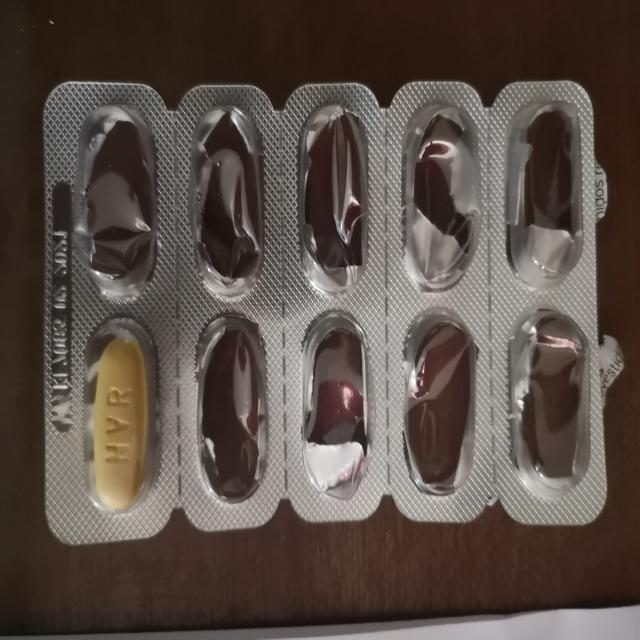Empty: (502, 301, 598, 501), (501, 94, 592, 294), (76, 104, 160, 306), (395, 101, 480, 296), (395, 304, 479, 500), (188, 100, 268, 305), (292, 100, 373, 302), (191, 310, 274, 502), (299, 306, 380, 498)
Pill: (79, 313, 156, 518)
